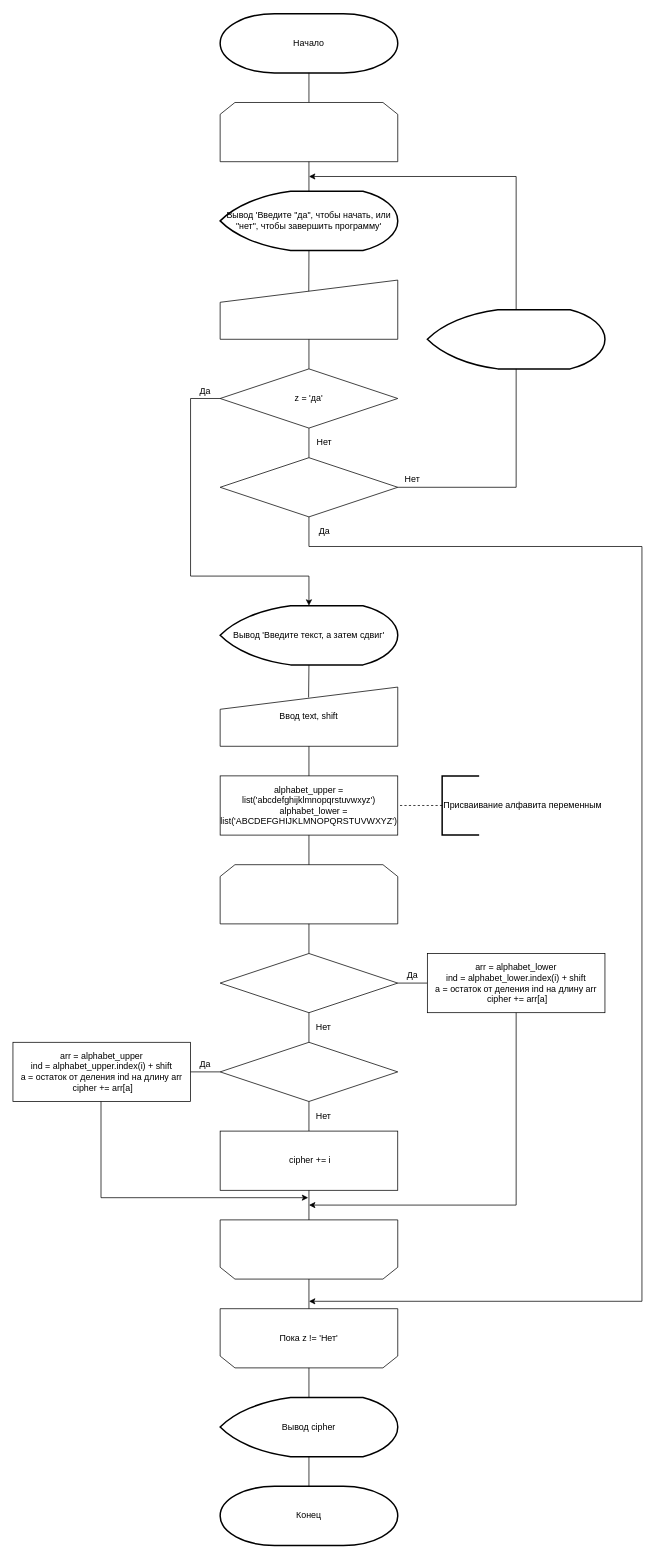
Image size: 661x1558. Some labels were removed from this diagram. Each missing label, with the centre of its shape:
"i есть в alphabet_lower?" goes at point (308, 983).
"i есть в alphabet_upper?" goes at point (308, 1071).
"z = 'нет'" goes at point (308, 487).
"Ввод z" goes at point (308, 309).
"Вывод 'Ошибка'" goes at point (515, 339).
"Пока i есть в text" goes at point (308, 1249).
